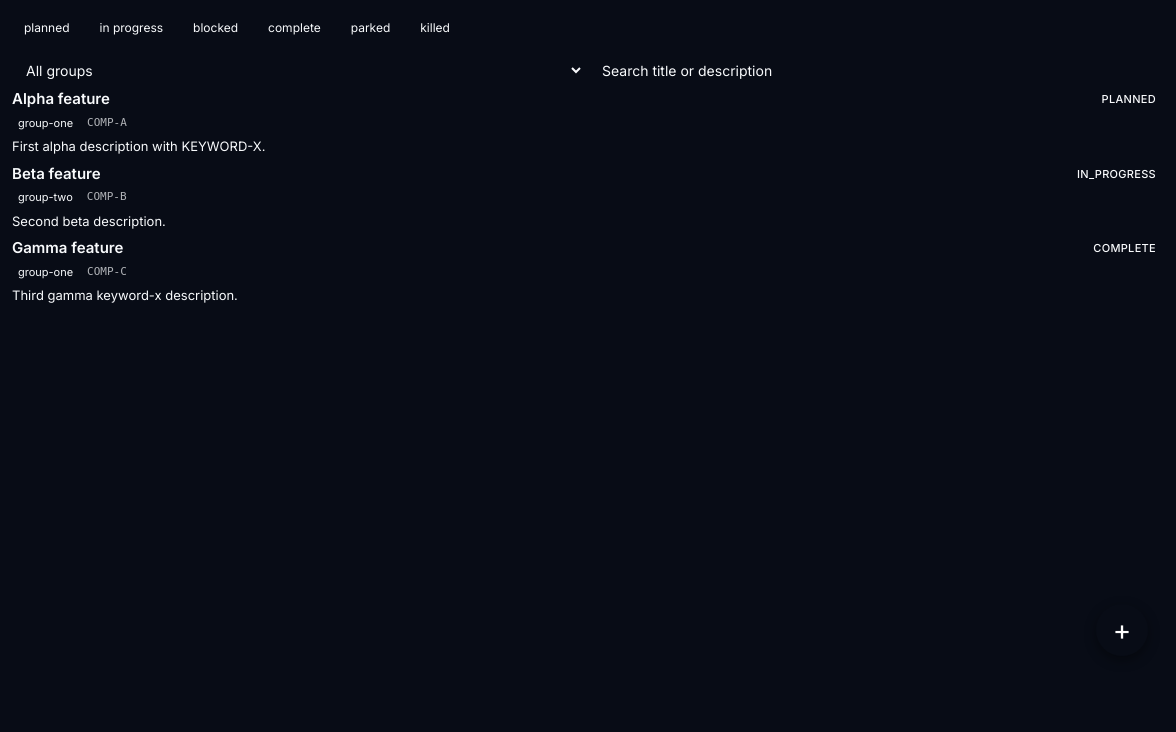
Test: <RoadmapTab> › filters by group
Expected: the list with test id "mobile-roadmap-list" is shown, [12,89,1164,305]
Select "group-one" in the dropdown with test id "mobile-filter-group" at (298, 70), box [12,52,584,89]
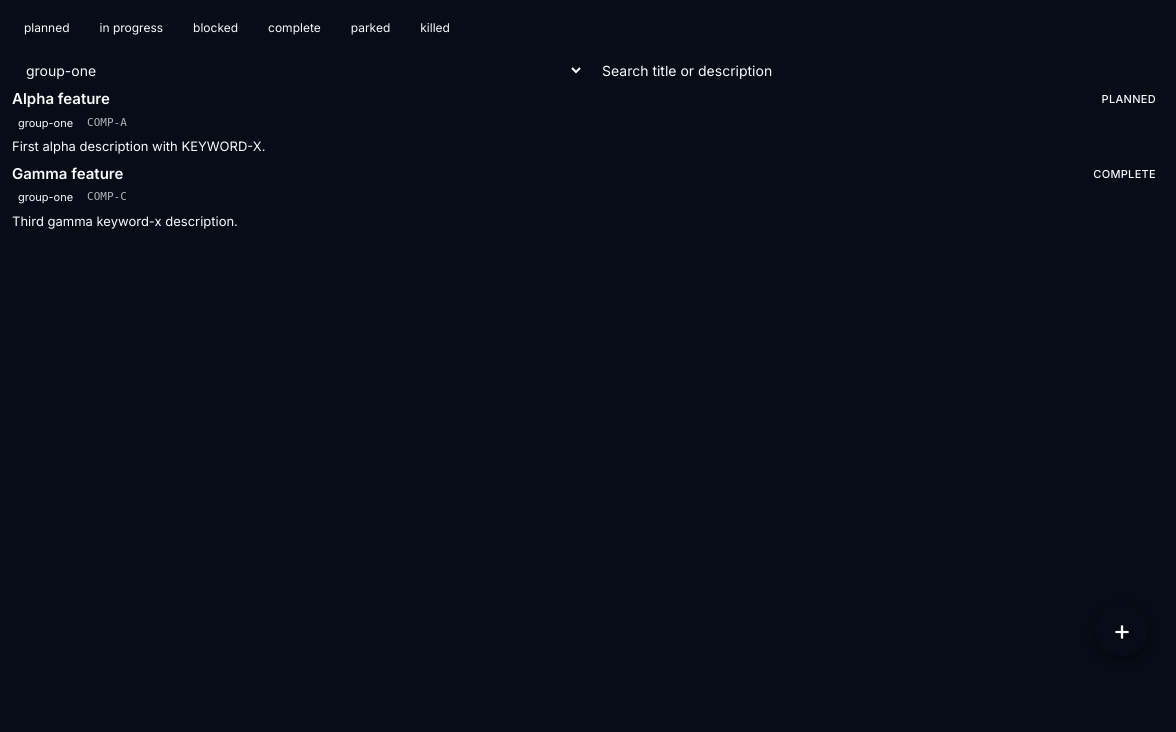
Expected: the button with test id "mobile-item-card-COMP-A" is shown, [12,89,1164,156]
Expected: the button with test id "mobile-item-card-COMP-B" is gone
